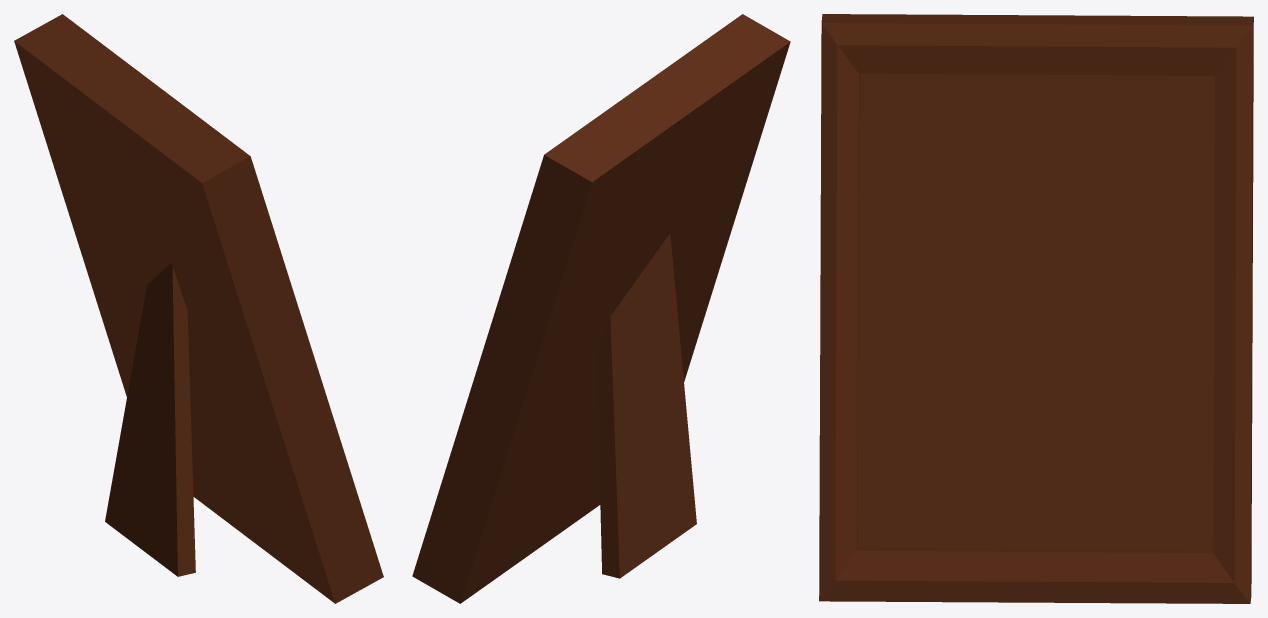
File: framed_photo.fbx
3 renders of one model, left to right at view 1: azimuth 30°, elevation 25°; view 2: azimuth 150°, elevation 25°; view 3: azimuth 270°, elevation 25°, orthographic. The views are drawn at different scales.
Parts seen in each view (by area): view 1: framed_photo, support; view 2: framed_photo, support; view 3: framed_photo.
Boxes of the visible parts, x1,y1,x2,y2 form: framed_photo: [14, 14, 383, 603]; support: [105, 264, 195, 576]; framed_photo: [412, 14, 790, 603]; support: [596, 234, 696, 578]; framed_photo: [819, 14, 1253, 603].
Bounding box in the file's own units: 7.81 × 18.87 × 14.2.
Materials: 1 (1 with a texture image).
